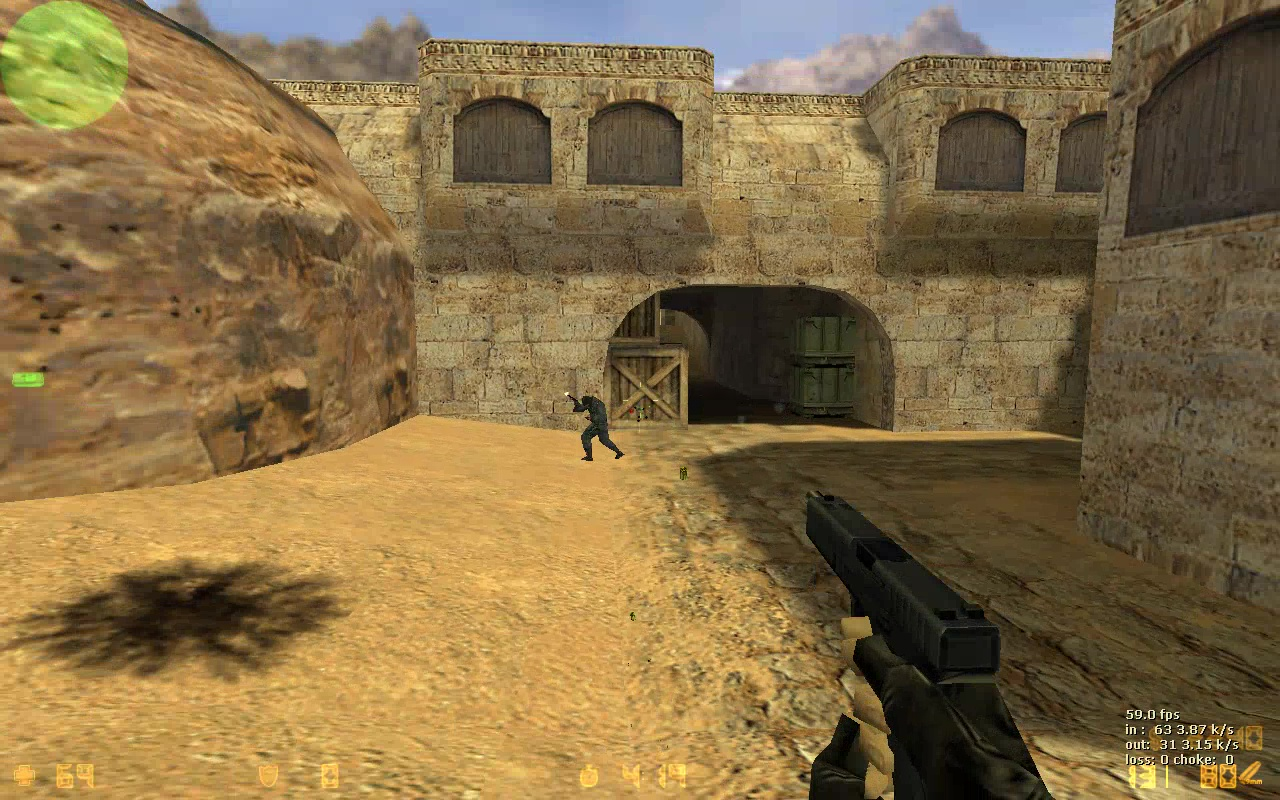ct: (570, 396, 627, 462)
